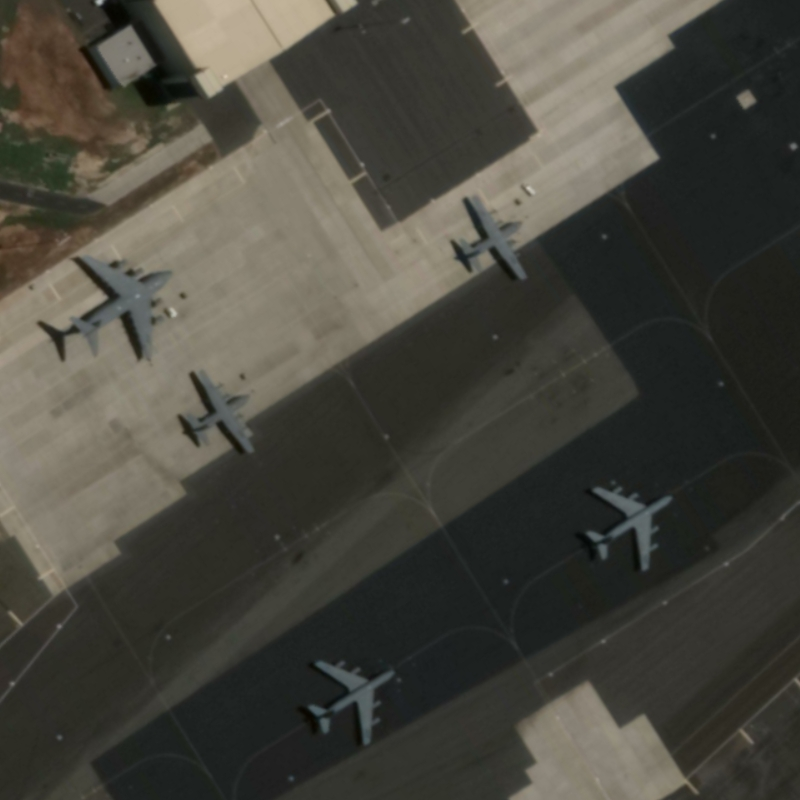A14: (302, 649, 400, 750), (578, 477, 676, 574)
A2: (174, 364, 260, 457), (453, 191, 533, 283)
A3: (65, 250, 178, 364)
